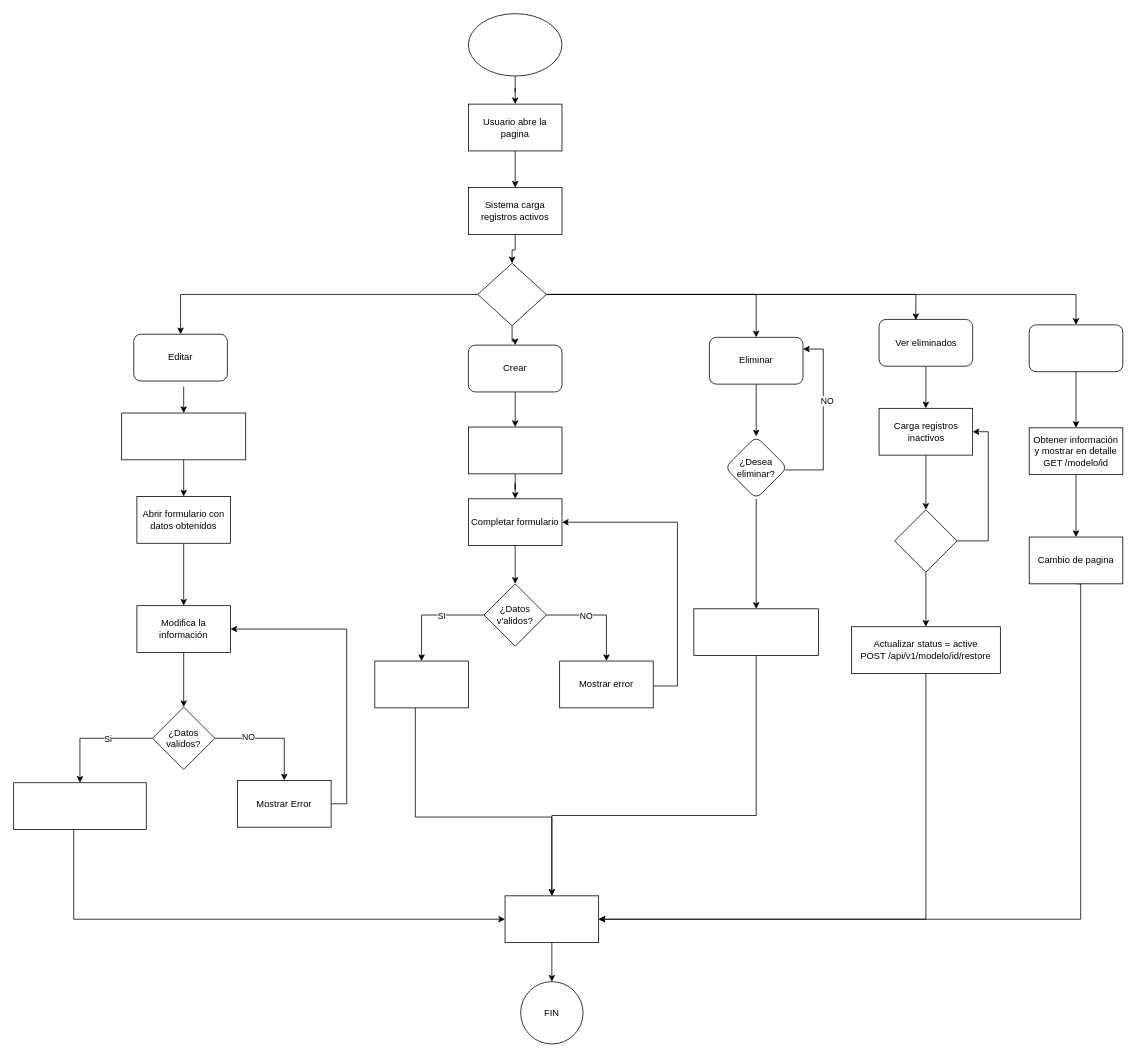
The diagram is 1136 pixels wide and 1058 high, and some of its shapes have lost their labels. Here are the shapes that lost their labels. From the top down, the centre of each, then its label:
At [515,44]: "Inicio".
At [511,294]: "¿Qué acción elige?".
At [1075,348]: "Ver en detalle".
At [183,436]: "Obtener datos de DB GET api/v1/modelo/id".
At [515,450]: "Abrir formulario de creación".
At [925,540]: "¿Restaurar registro?".
At [756,632]: "Actualizar status = inactive DELETE /api/v1/molelo/id".
At [421,684]: "Publicar en DB POST /api/v1/modelo".
At [79,806]: "Actualizar en DB PATCH /api/v1/modelo/id".
At [551,919]: "Actualización en la apgina".
